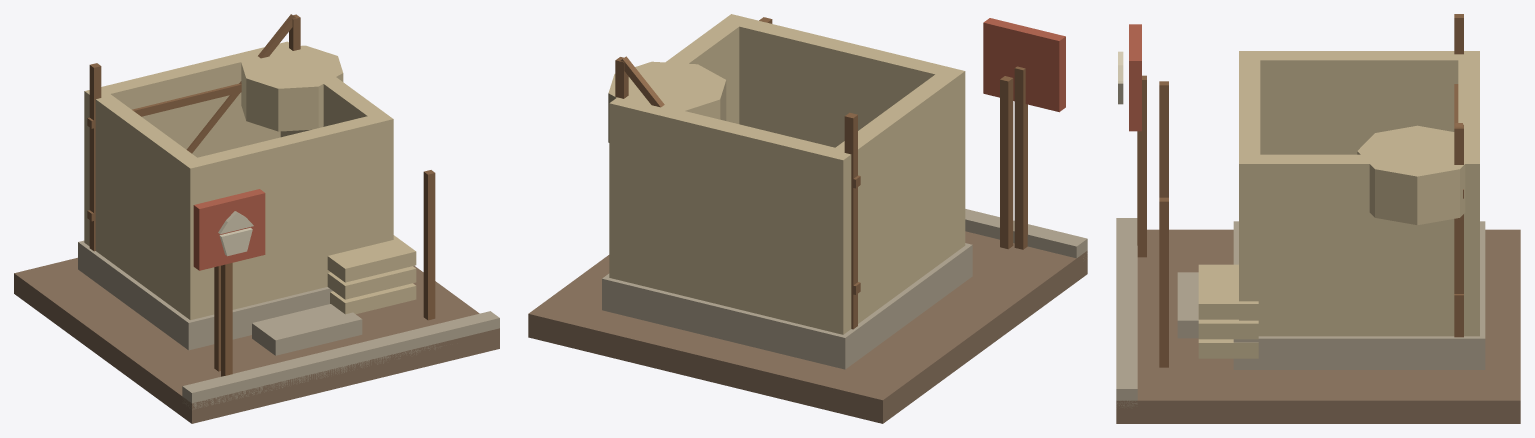
The model's file is patisserie-half-built.glb.
The picture shows the model from 3 angles, left to right: view 1: azimuth 30°, elevation 25°; view 2: azimuth 150°, elevation 25°; view 3: azimuth 270°, elevation 25°; orthographic projection. The views are drawn at different scales.
Parts seen in each view (by area): view 1: patisserie; view 2: patisserie; view 3: patisserie.
Part boxes in pixels (left/top/right/bottom): patisserie: left=14, top=14, right=499, bottom=423; patisserie: left=528, top=14, right=1087, bottom=423; patisserie: left=1116, top=14, right=1520, bottom=423.
Size of the model in its own units: 1.88 by 1.38 by 1.88.
